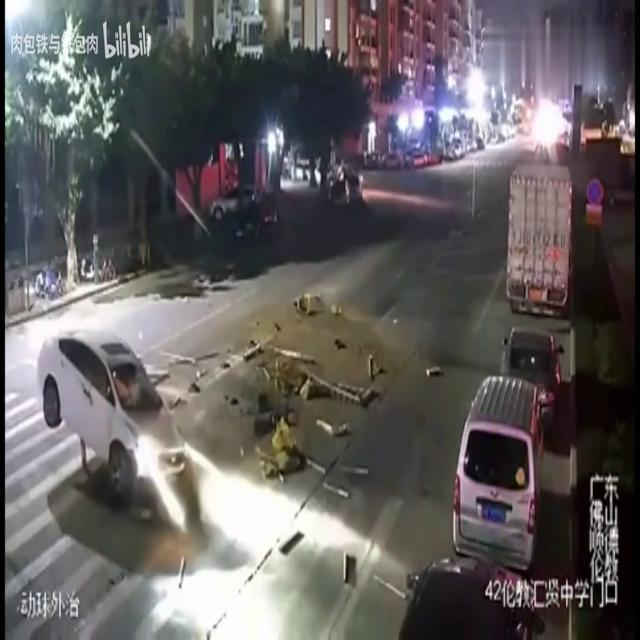normal: (433, 302, 578, 640), (483, 118, 623, 332)
single accident: (7, 248, 435, 575)
